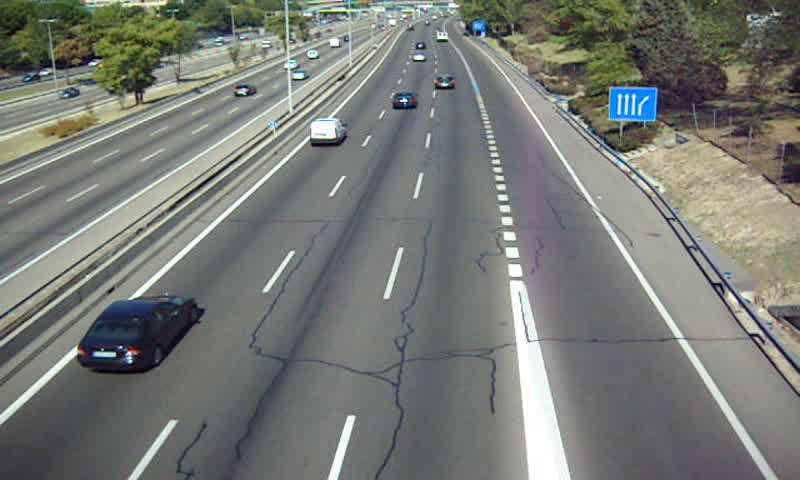car: (77, 295, 196, 373), (391, 90, 419, 110), (433, 74, 455, 91)
van: (309, 118, 348, 145)
